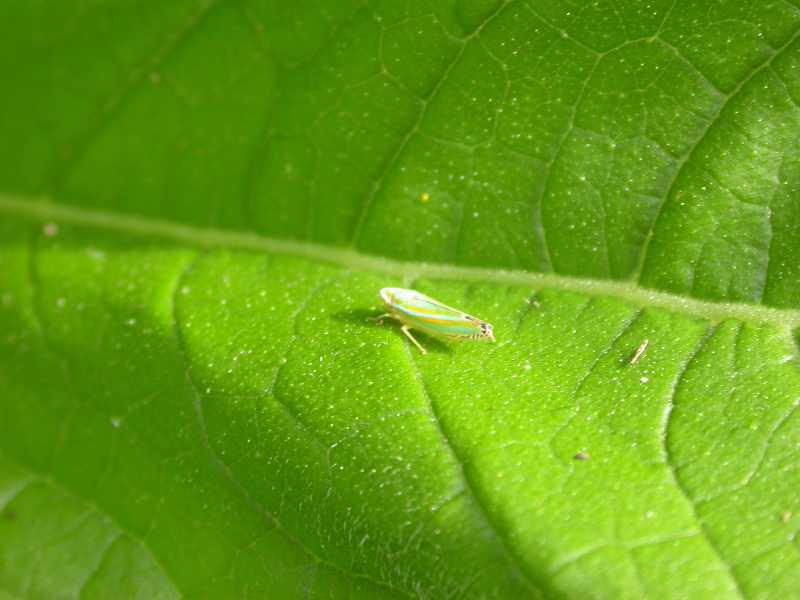Brown_plant_leafhopper: (358, 278, 519, 391)
